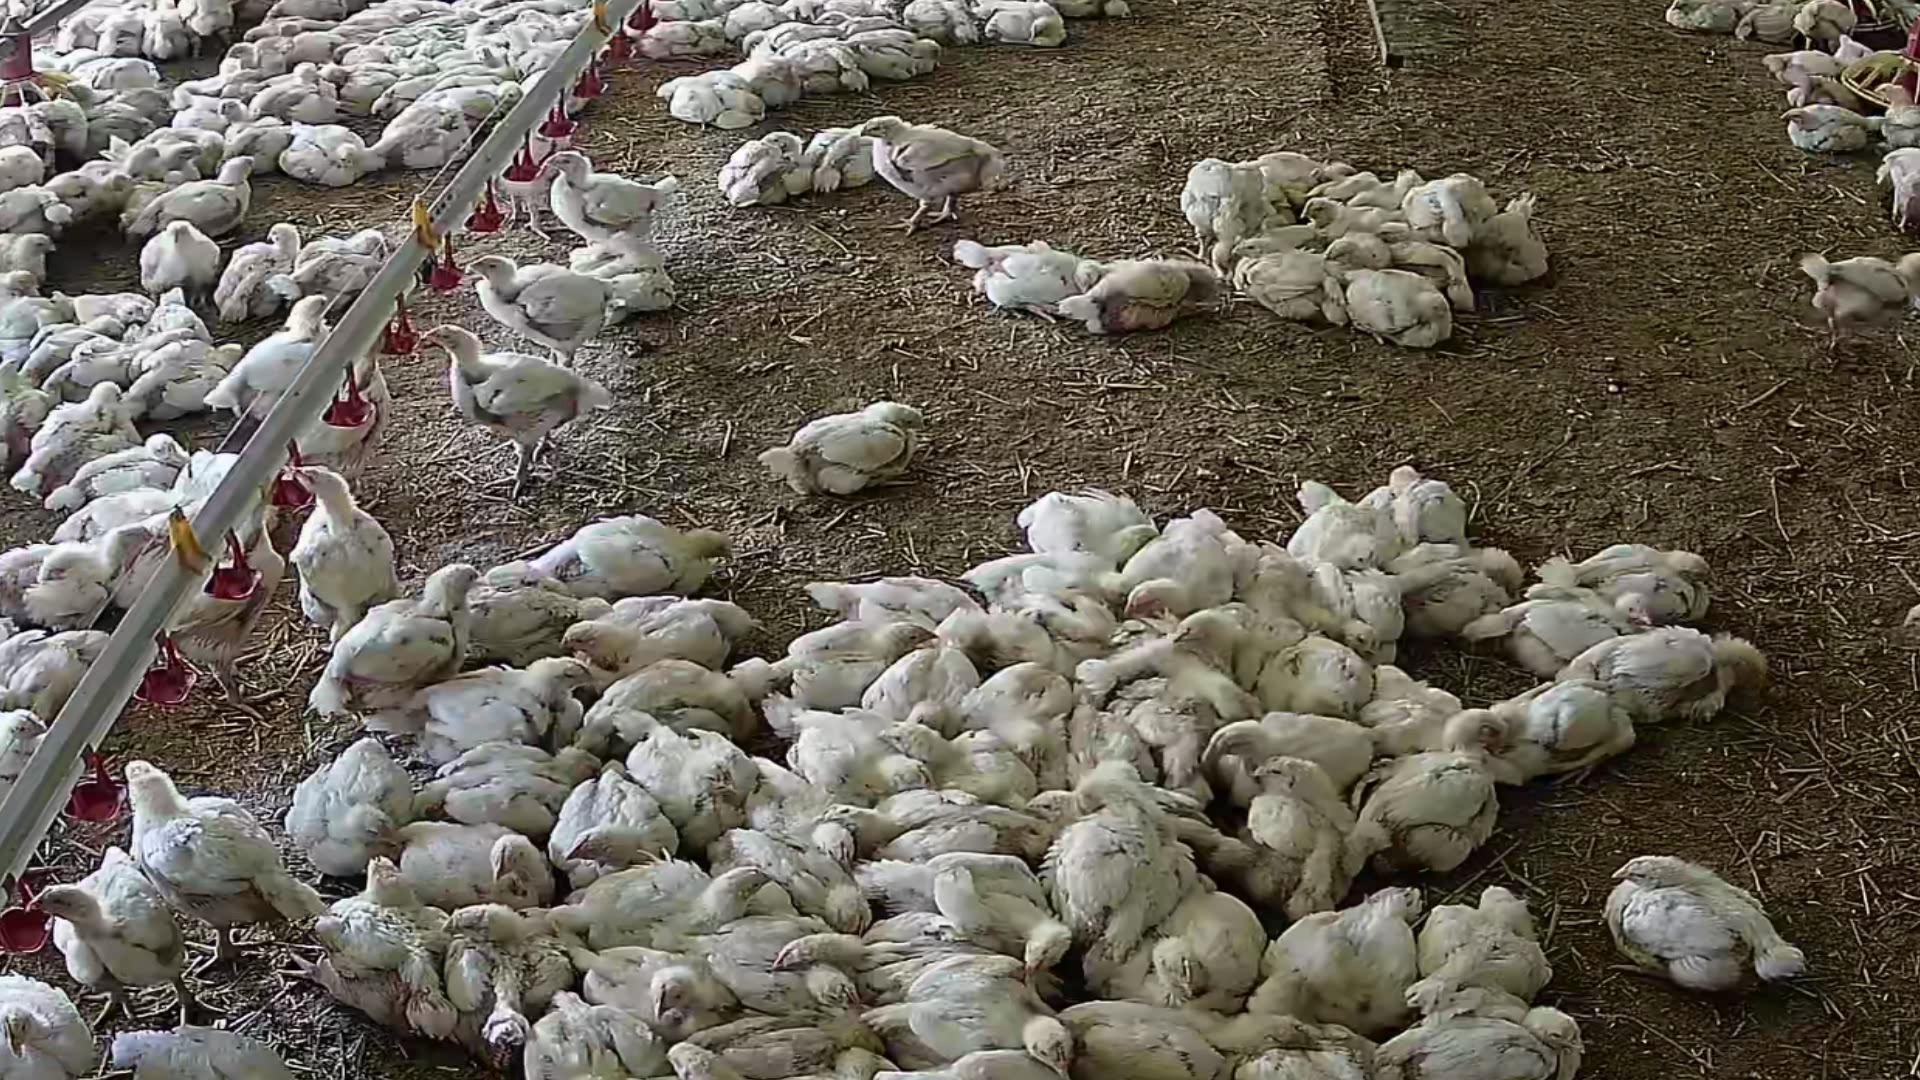poussin: (1598, 839, 1822, 1018), (417, 319, 644, 488), (113, 746, 298, 947), (22, 848, 222, 1026), (741, 378, 953, 524), (309, 848, 462, 1038), (873, 840, 1081, 973), (319, 560, 501, 711), (219, 302, 384, 465), (1116, 843, 1274, 1010), (1250, 880, 1419, 1036), (1331, 720, 1489, 885), (285, 451, 421, 636), (500, 493, 729, 601), (1055, 774, 1188, 960), (1178, 599, 1367, 725), (1062, 985, 1315, 1080), (687, 811, 877, 938), (156, 525, 285, 709), (1378, 971, 1593, 1080), (840, 105, 997, 251), (1407, 873, 1557, 1022), (1225, 764, 1377, 907), (1462, 684, 1651, 796), (287, 735, 438, 873), (535, 585, 744, 684), (1228, 531, 1385, 662), (411, 666, 604, 771), (1561, 621, 1760, 720), (894, 967, 1065, 1080), (1782, 237, 1920, 375), (1050, 245, 1229, 345), (820, 787, 1052, 864), (785, 910, 992, 996), (673, 1004, 903, 1080), (572, 847, 749, 944), (462, 251, 621, 357), (1116, 505, 1251, 630), (1209, 703, 1378, 802), (567, 931, 731, 1030), (102, 1005, 316, 1080), (778, 699, 931, 804), (535, 757, 667, 877), (1555, 541, 1739, 624), (709, 916, 855, 1022), (600, 653, 764, 745), (538, 148, 675, 256), (731, 757, 874, 858), (502, 984, 653, 1080), (1058, 645, 1166, 778), (468, 889, 560, 1044), (633, 720, 753, 839), (943, 232, 1096, 324), (1390, 541, 1534, 638), (467, 555, 604, 655), (1010, 483, 1156, 576), (404, 818, 537, 920), (433, 740, 568, 839), (959, 646, 1069, 766), (899, 720, 1048, 807), (781, 615, 943, 688), (873, 621, 976, 737), (1284, 477, 1400, 578), (837, 567, 975, 649), (8, 622, 103, 740), (142, 160, 287, 236), (123, 338, 248, 425), (1168, 162, 1273, 266), (1510, 578, 1659, 649), (1366, 456, 1481, 549), (211, 214, 305, 326), (564, 233, 688, 315), (29, 389, 145, 476), (1237, 243, 1341, 338), (1367, 666, 1490, 746), (1377, 219, 1485, 310), (1009, 579, 1118, 666), (278, 219, 389, 303), (3, 537, 102, 629), (1345, 269, 1458, 349), (359, 104, 473, 183), (1247, 1010, 1377, 1080), (1465, 198, 1552, 290), (280, 119, 378, 196), (724, 137, 825, 211), (663, 76, 770, 146), (796, 116, 884, 200), (66, 430, 186, 489), (1778, 96, 1871, 167), (71, 477, 166, 546), (501, 22, 583, 102), (69, 75, 150, 150), (257, 63, 344, 132), (1319, 161, 1427, 215), (1862, 138, 1920, 239), (985, 0, 1079, 61), (624, 9, 725, 65), (62, 289, 164, 344), (787, 38, 869, 105), (1287, 193, 1394, 244), (206, 109, 291, 171), (732, 37, 804, 109), (124, 136, 215, 190), (45, 167, 128, 225), (1859, 76, 1920, 156), (1763, 40, 1836, 105), (852, 33, 947, 83), (1258, 141, 1341, 195), (1423, 167, 1481, 244), (0, 707, 45, 802), (436, 76, 524, 125), (902, 0, 978, 54), (1792, 0, 1863, 58), (0, 102, 55, 174), (364, 73, 443, 123), (0, 229, 75, 280), (0, 264, 50, 339), (138, 286, 207, 338), (142, 0, 194, 69), (746, 18, 844, 54), (173, 86, 240, 137), (175, 0, 243, 51), (328, 57, 388, 115), (0, 189, 58, 245), (103, 0, 152, 65), (1048, 0, 1139, 34), (819, 11, 913, 42), (1668, 0, 1737, 41), (1323, 225, 1383, 272), (1738, 0, 1795, 47), (0, 142, 51, 193), (59, 3, 107, 55), (222, 41, 280, 82), (1830, 30, 1879, 78), (650, 0, 727, 28)
